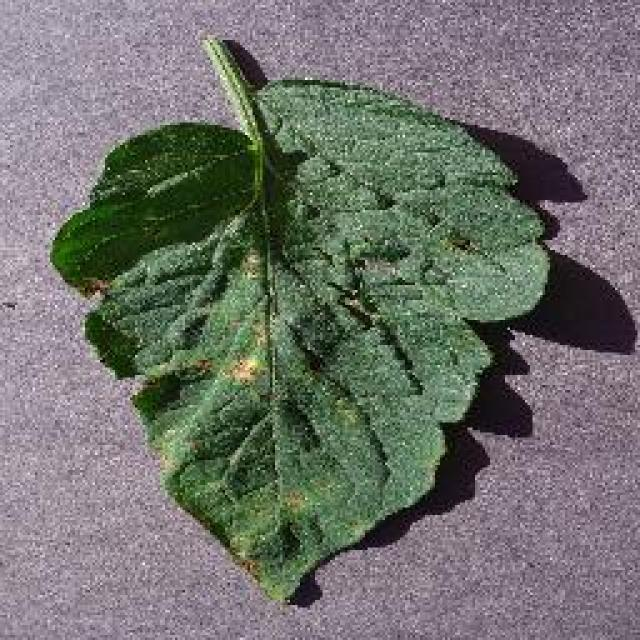Tomato___Target_Spot: (50, 38, 548, 598)
